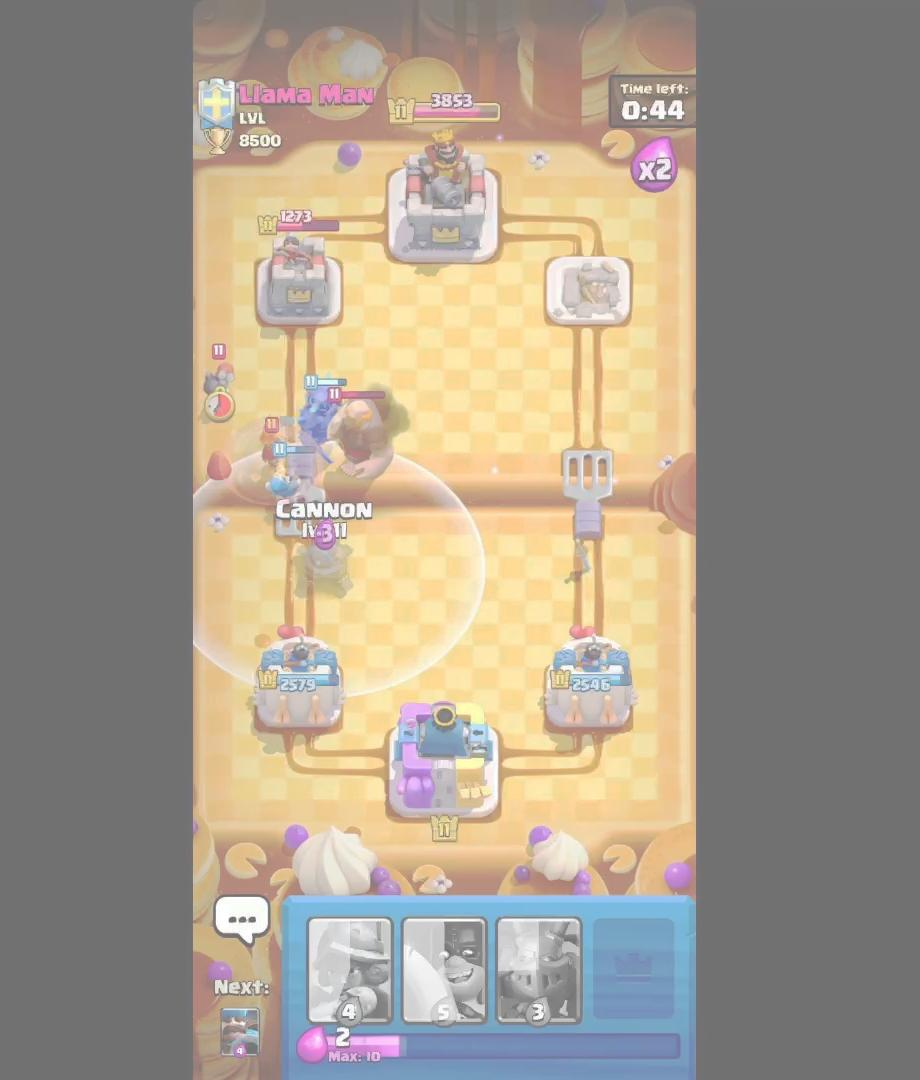Bomber: (201, 338, 246, 418)
Giant: (324, 384, 397, 484)
Valkyrie: (257, 413, 296, 485)
